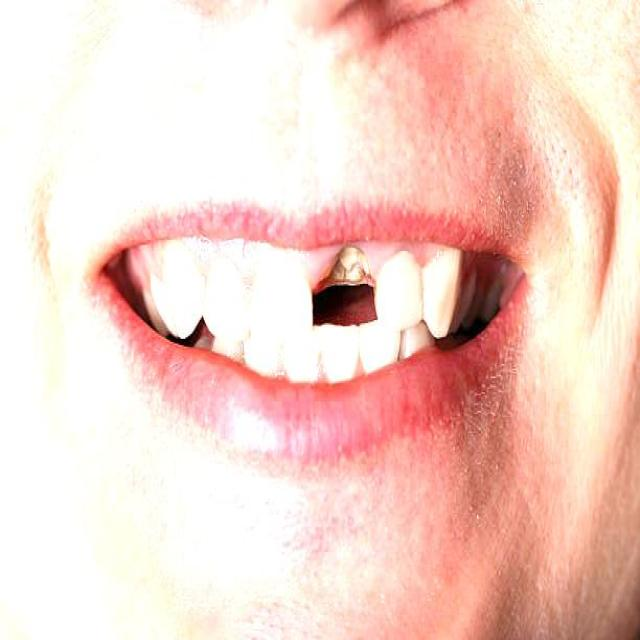caries: (322, 230, 378, 303)
